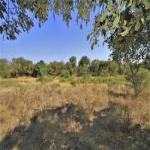Uncultivated: (7, 71, 144, 150)
